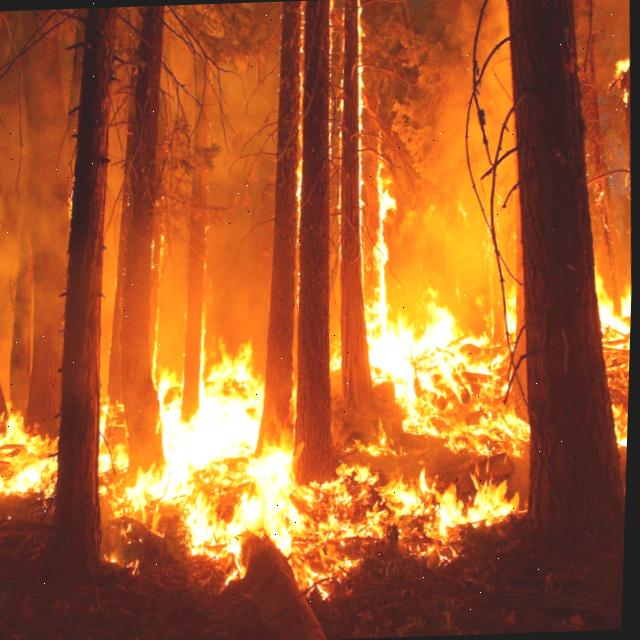fire: (101, 348, 526, 594), (367, 150, 527, 459), (0, 410, 62, 502), (593, 259, 633, 343), (612, 406, 631, 446)
smoke: (391, 0, 524, 318), (155, 38, 281, 360), (0, 114, 81, 414)
